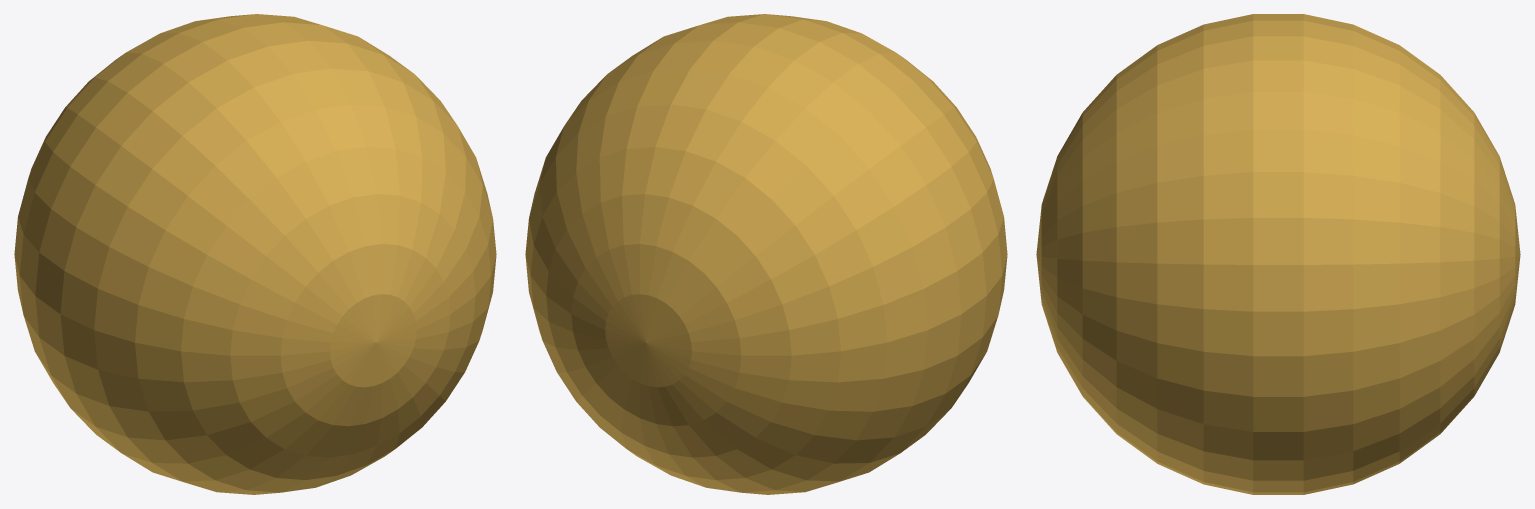
The model's file is orange.glb.
3 renders of one model, left to right at view 1: azimuth 30°, elevation 25°; view 2: azimuth 150°, elevation 25°; view 3: azimuth 270°, elevation 25°, orthographic.
Parts seen in each view (by area): view 1: geometry_0; view 2: geometry_0; view 3: geometry_0.
Part boxes in pixels (x1,y1,x2,y2): geometry_0: (14,14,496,494); geometry_0: (525,14,1007,494); geometry_0: (1036,14,1520,494).
Bounding box in the file's own units: 0.7956 × 0.7956 × 0.8.
